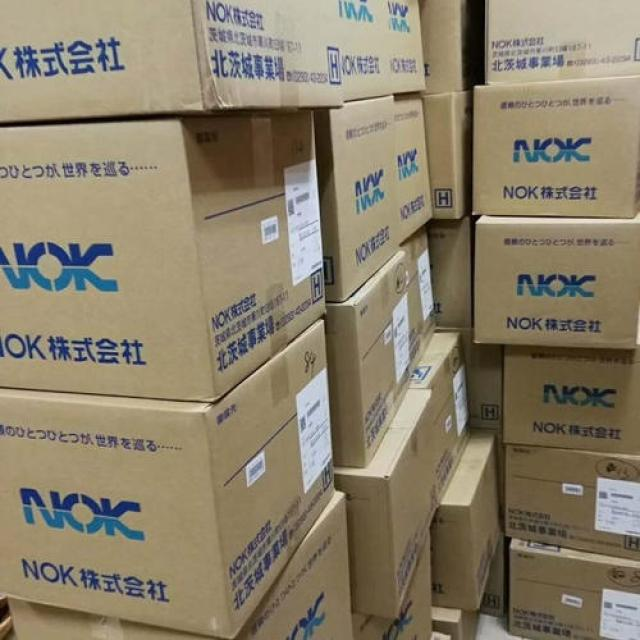box: (0, 111, 326, 403), (471, 76, 640, 219), (335, 389, 439, 616), (474, 210, 640, 348), (328, 248, 412, 468), (316, 95, 402, 302), (236, 494, 355, 640), (504, 445, 640, 559), (502, 346, 640, 456), (508, 539, 640, 640), (430, 433, 502, 612), (485, 0, 640, 83), (404, 333, 470, 498), (339, 0, 426, 102), (8, 600, 229, 640), (424, 91, 472, 219), (397, 93, 433, 242), (419, 0, 471, 95), (407, 225, 435, 374)
